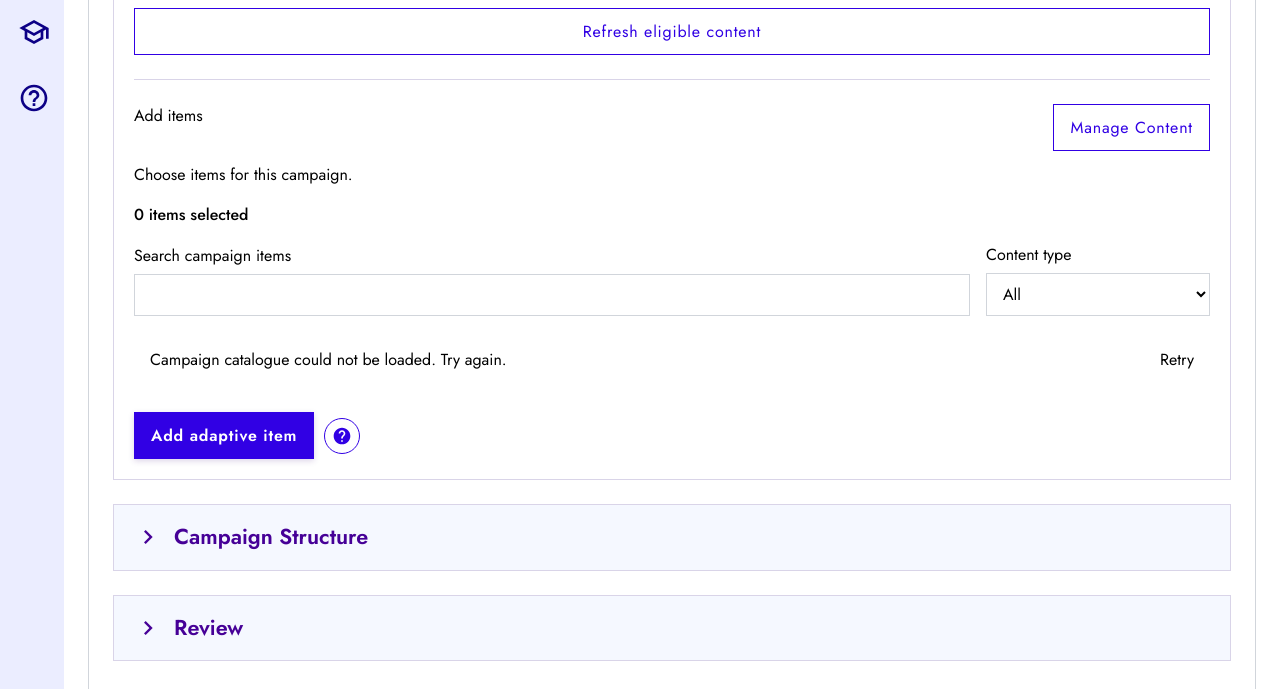
Test case: CampaignManagementDetailPage catalogue › retries a failed catalogue load and displays the returned items
(page scrolled)
Expected: the text "Campaign catalogue could not be loaded. Try again." is shown, [150,348,507,372]
Click the button "Retry" at (1177, 360), box [1160,348,1194,372]
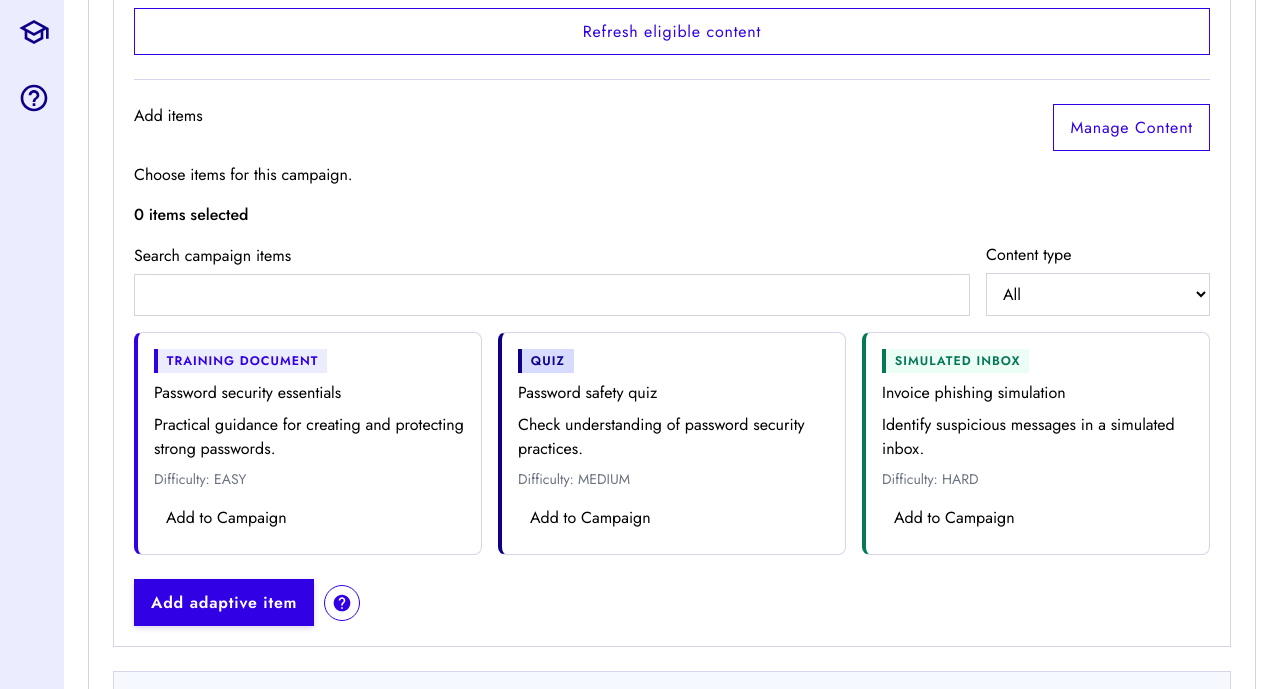
Now the heading "Password security essentials" is shown, box [154,381,341,404]
Now the text "Campaign catalogue could not be loaded. Try again." is gone
